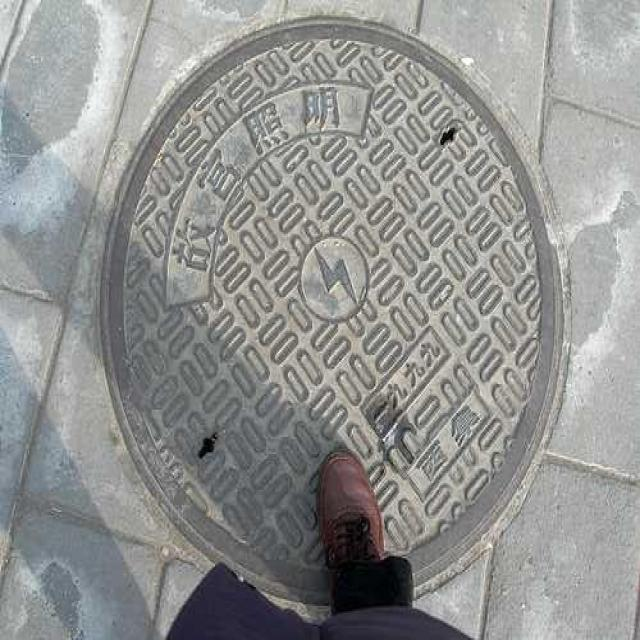manhole: (97, 17, 567, 623)
